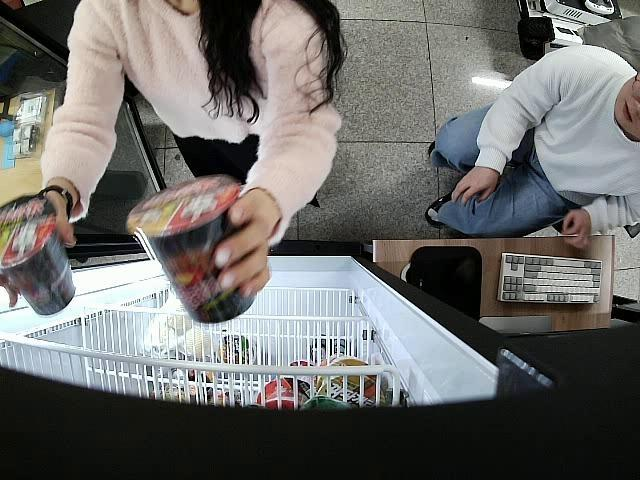08_buldak_S: (127, 176, 256, 324), (0, 194, 76, 318)
